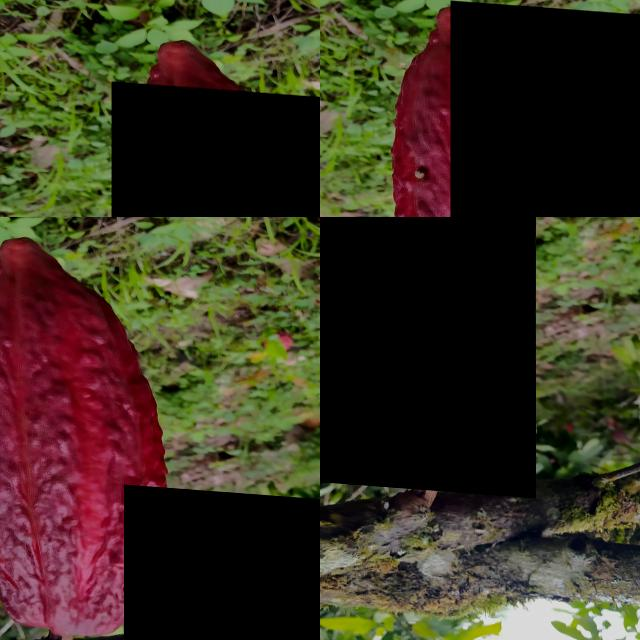Monilia: (451, 0, 640, 217), (28, 344, 216, 453), (346, 0, 441, 63)
Sana: (320, 217, 535, 491), (124, 479, 320, 640), (111, 79, 320, 217), (81, 217, 243, 303), (0, 217, 180, 255)
